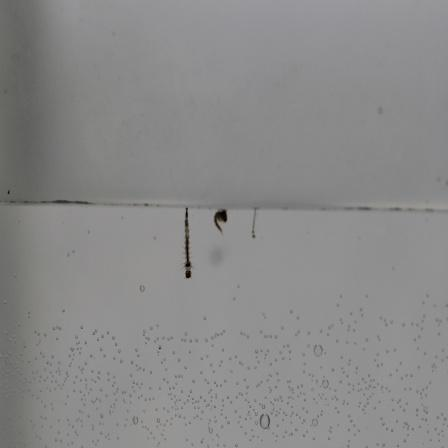Jentik-Nyamuk: (179, 206, 198, 283), (208, 203, 231, 238), (248, 205, 261, 240)
